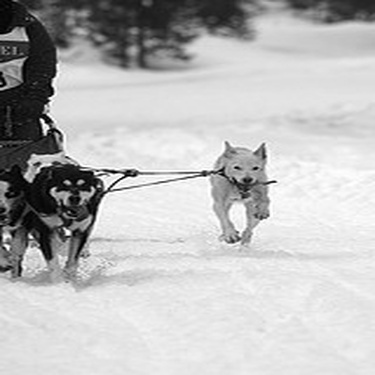dog: (193, 133, 283, 262), (22, 159, 109, 288), (15, 133, 92, 266), (3, 154, 31, 286)
